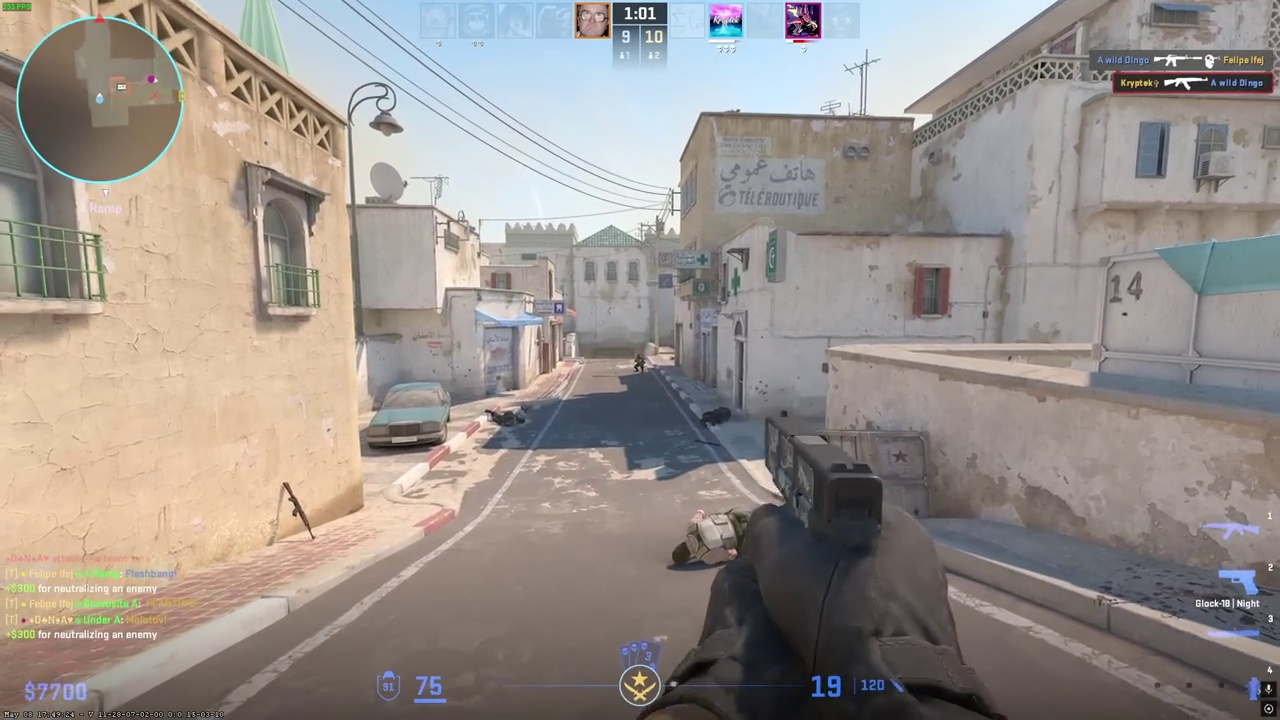CT: (633, 353, 645, 373)
